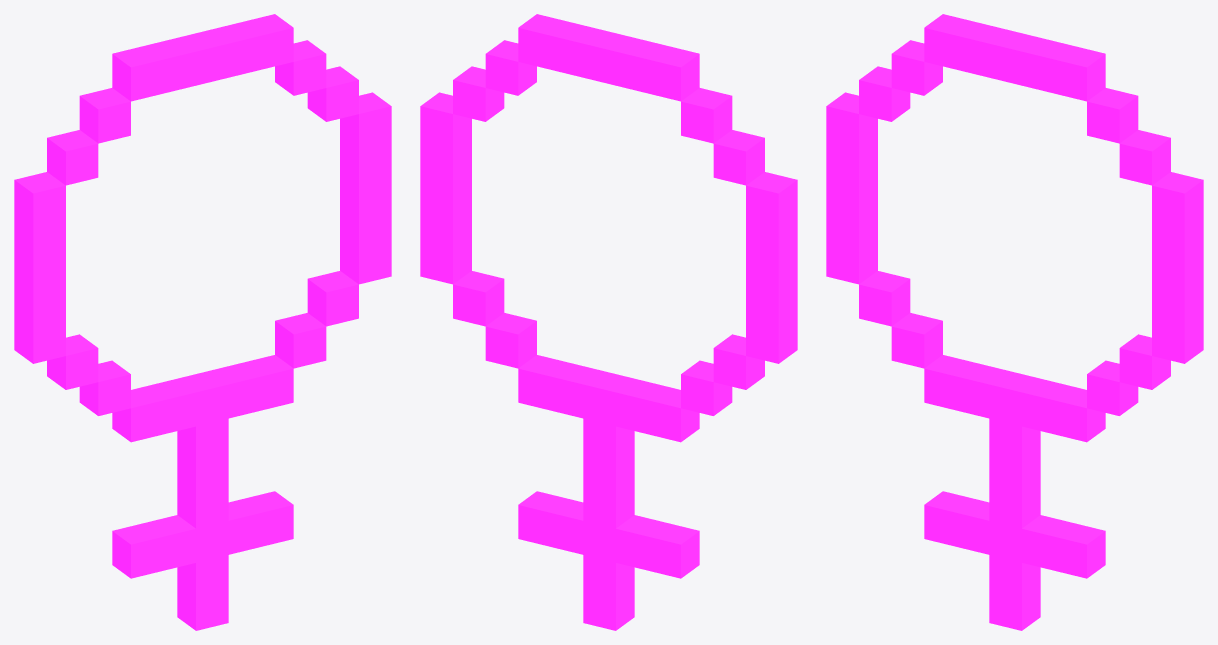
File: neon_kobieta_symbol.dae
The picture shows the model from 3 angles, left to right: view 1: azimuth 30°, elevation 25°; view 2: azimuth 150°, elevation 25°; view 3: azimuth 330°, elevation 25°; orthographic projection.
Visible parts, largest first — view 1: Content; view 2: Content; view 3: Content.
Part boxes in pixels (bbox=[...]): Content: bbox=[14, 14, 391, 630]; Content: bbox=[420, 14, 797, 630]; Content: bbox=[826, 14, 1203, 630].
Size of the model in its own units: 11 by 17 by 1.
1 material, 1 textured.
